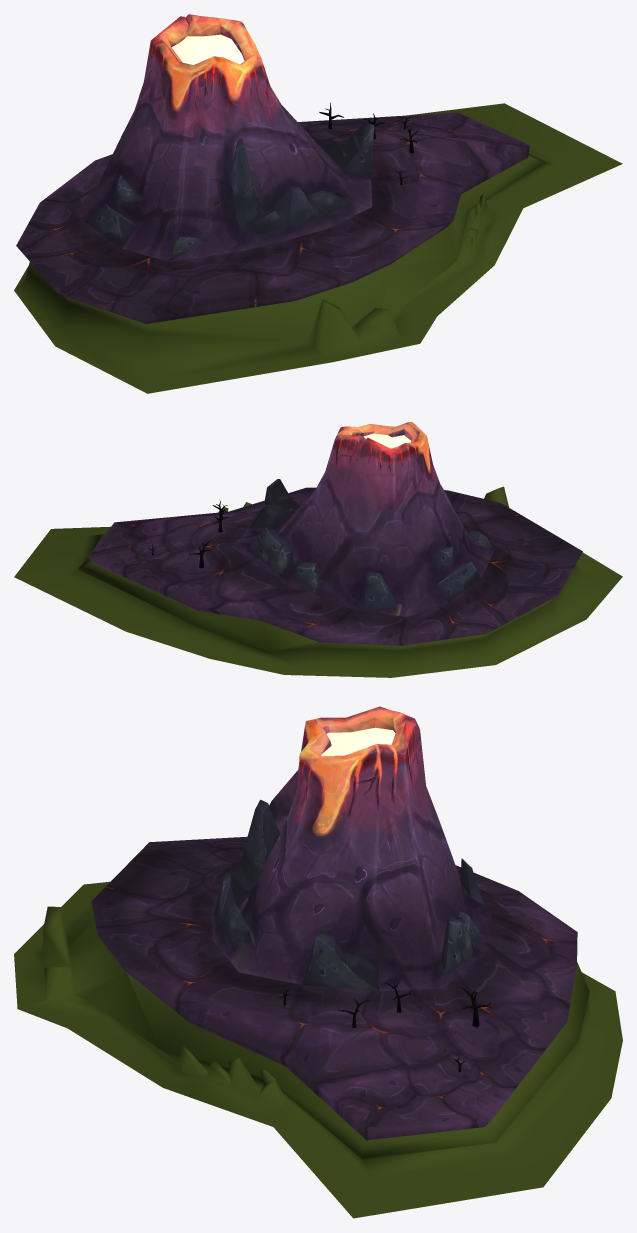
File: volcano.glb
3 renders of one model, top to bottom at view 1: azimuth 30°, elevation 25°; view 2: azimuth 150°, elevation 25°; view 3: azimuth 270°, elevation 25°, orthographic. The views are drawn at different scales.
Visible parts, largest first — view 1: Cube.004, Cube, Cube.002, Cube.001, Cube.003; view 2: Cube, Cube.004, Cube.002, Cube.001, Cube.003; view 3: Cube, Cube.004, Cube.002, Cube.001, Cube.003.
Part boxes in pixels (x1,y1,x2,y2): Cube.004: (14, 103, 622, 393); Cube: (16, 112, 530, 323); Cube.002: (80, 14, 372, 261); Cube.001: (84, 122, 374, 261); Cube.003: (172, 34, 244, 64); Cube: (88, 487, 582, 645); Cube.004: (14, 486, 622, 677); Cube.002: (232, 422, 493, 616); Cube.001: (246, 479, 493, 609); Cube.003: (363, 433, 411, 448); Cube: (91, 836, 577, 1140); Cube.004: (14, 881, 622, 1218); Cube.002: (212, 706, 491, 990); Cube.001: (217, 799, 483, 990); Cube.003: (321, 727, 395, 756).
Size of the model in its own units: 20.2 by 7.46 by 14.97.
Materials: 6 (3 with a texture image).
